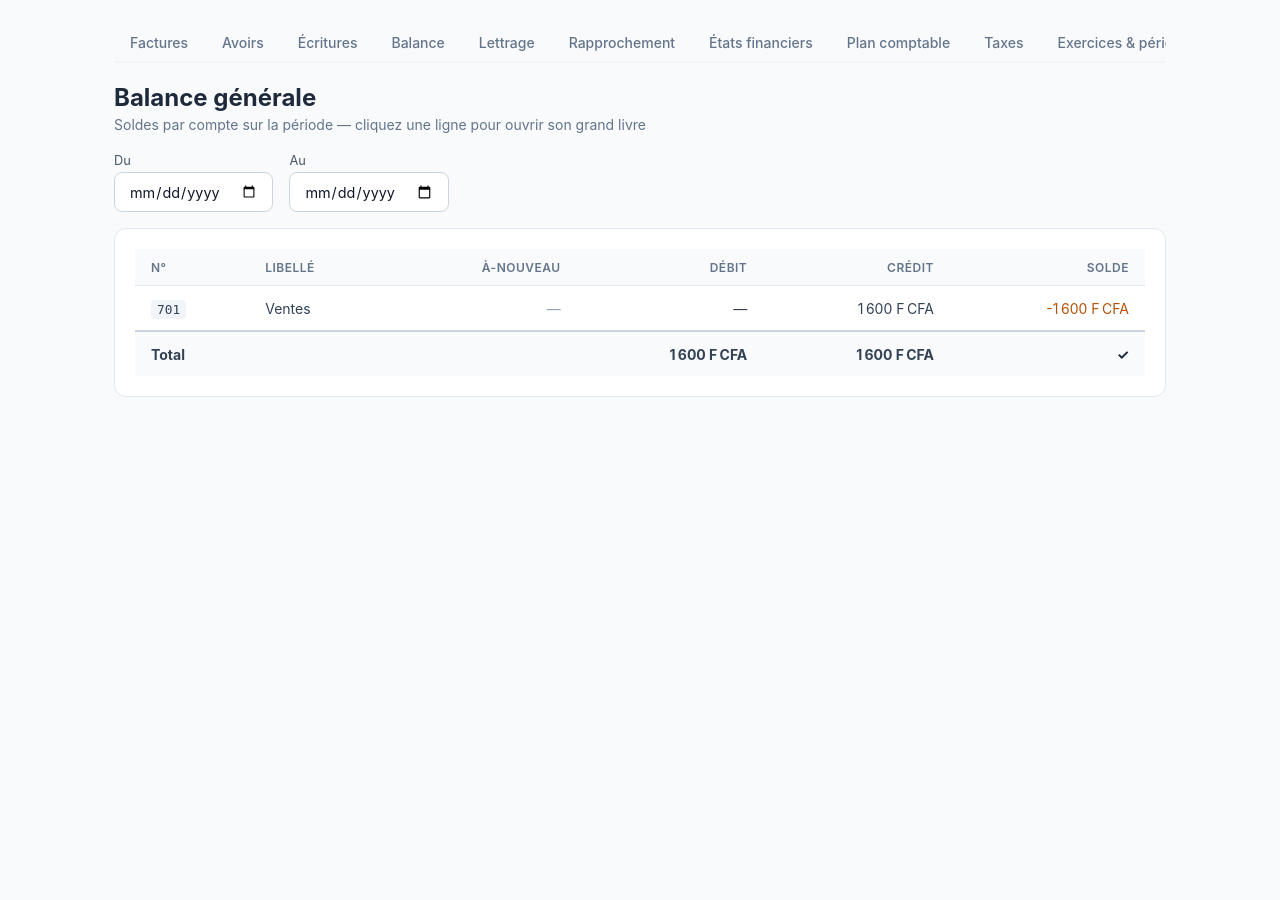
BalanceView › drills into an account and loads its general ledger
The width and height of the screenshot is (1280, 900).
Step 1. Click the row with test id "bal-row-701" → [169, 309], box [135,286,1145,331]
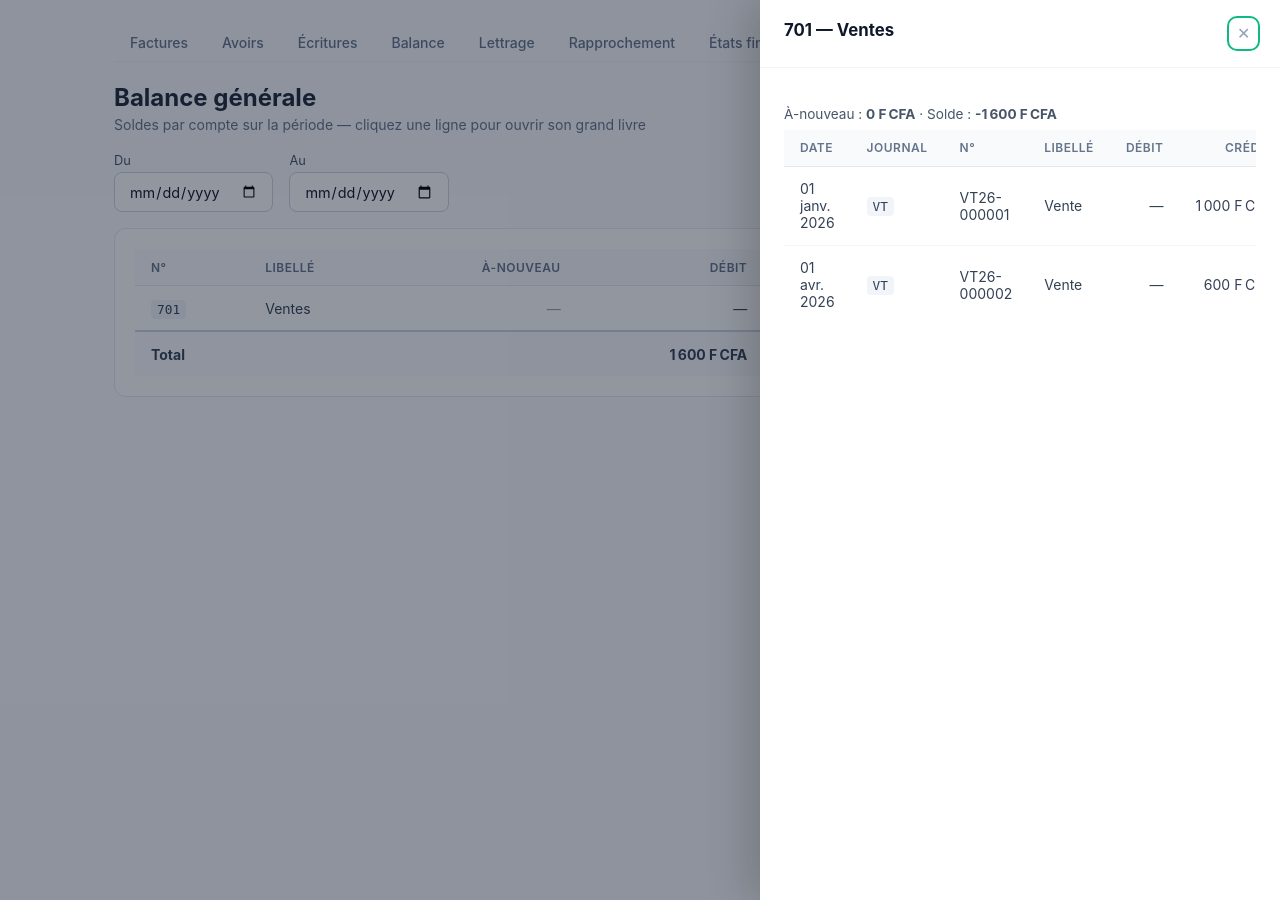
Expected: the number of rows with test id "ledger-line" is 2, [784,166,1256,245]; [784,245,1256,324]
Expected: the text "VT26-000002" is shown, [944,245,1028,324]
